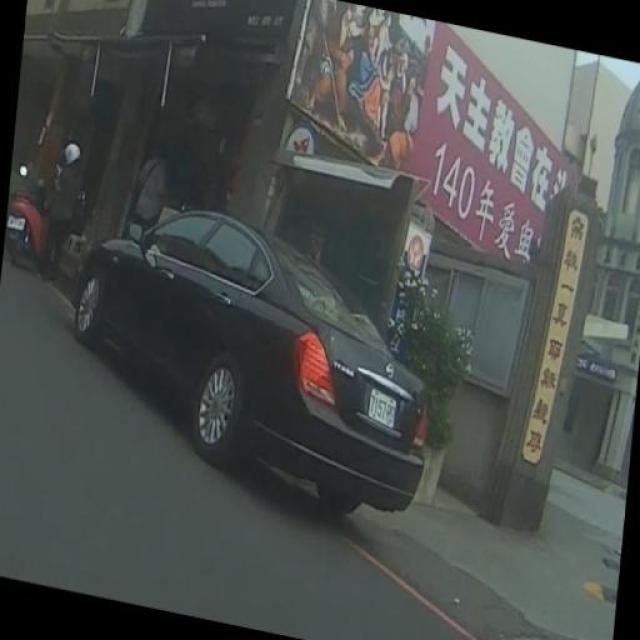Legalparking: (65, 116, 465, 550)
